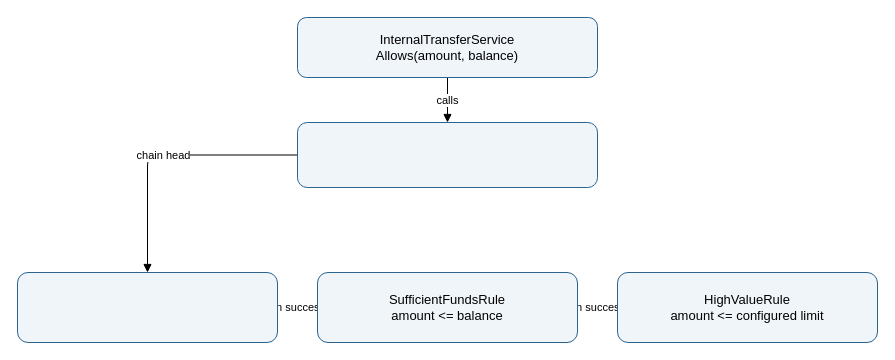
This 895x360 diagram has some shape labels left out. Each missing label, with the centre of its shape:
ITransferRule / TransferRule Accepts && next.Allows: (447,155)
PositiveAmountRule amount > 0: (147,307)
